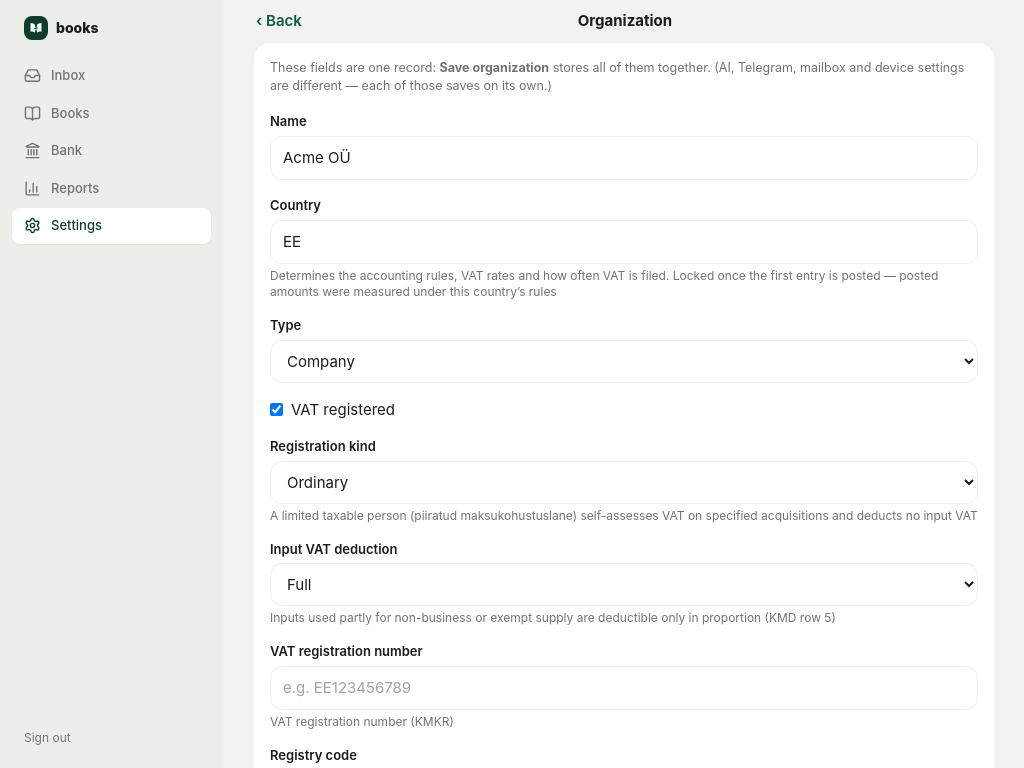
Test case: unsaved-changes guard on the production routes (#250) › explicit sign-out asks while a form is dirty; Discard signs out to the token gate
The width and height of the screenshot is (1024, 768).
Replace the text in the field labelled "Name" with "Unsaved OÜ" at (624, 158), box [270,136,978,180]
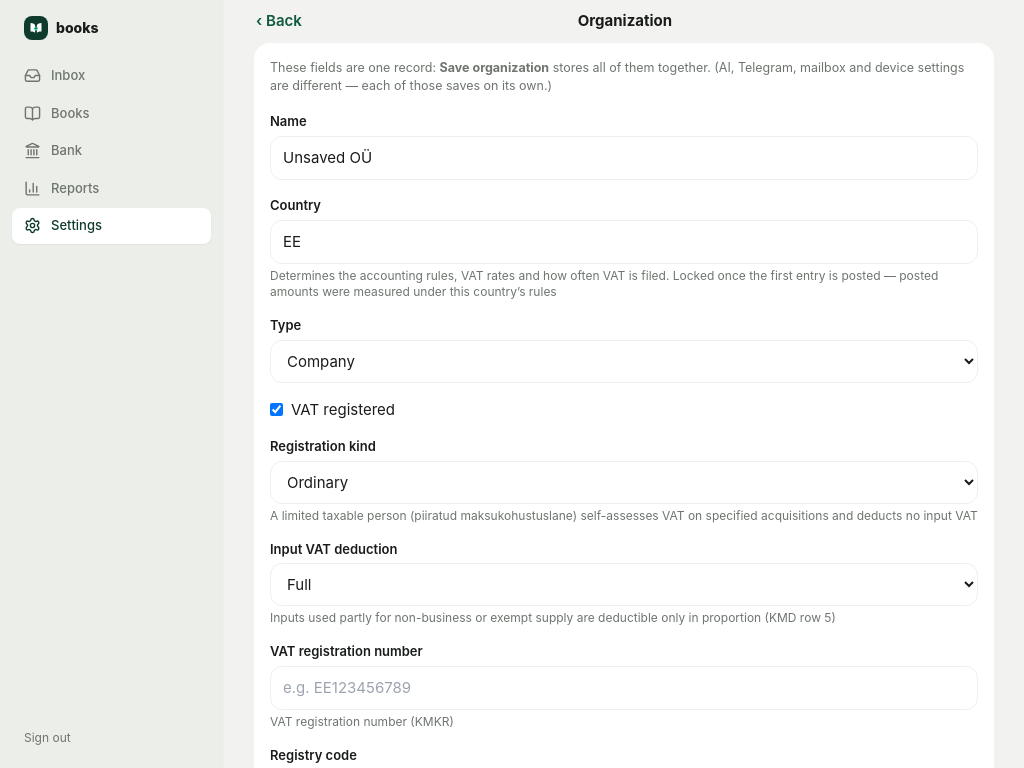
Click the button "Sign out" at (112, 738), box [12,719,211,756]
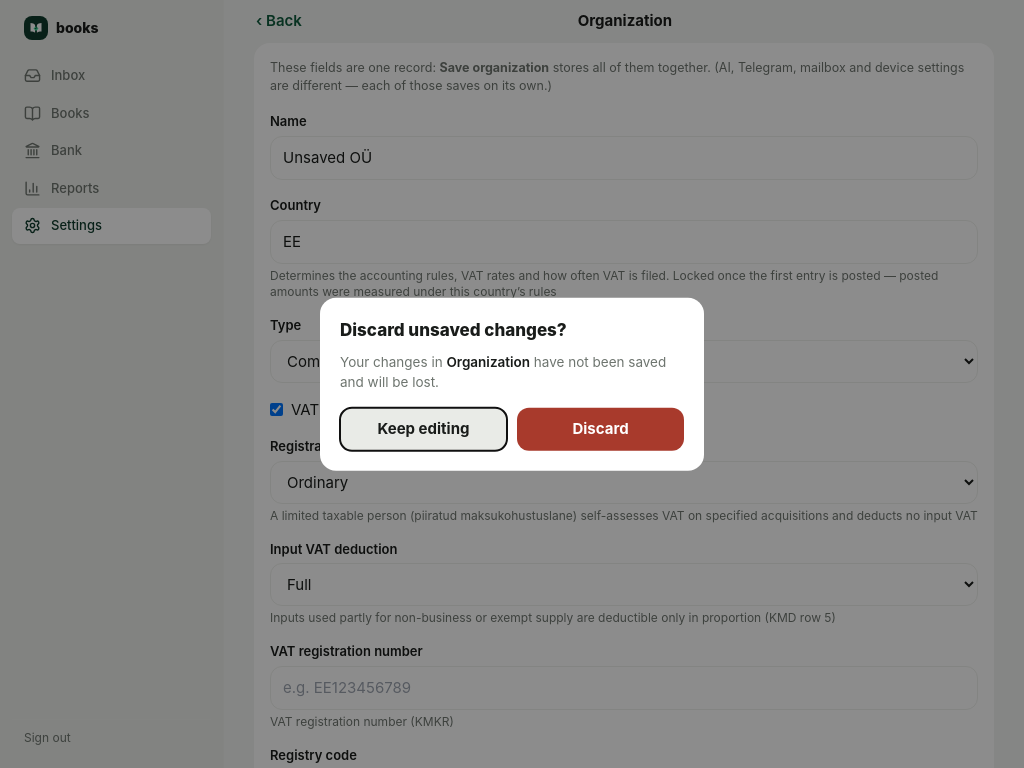
Click the button "Keep editing" at (424, 429), box [340,408,507,450]
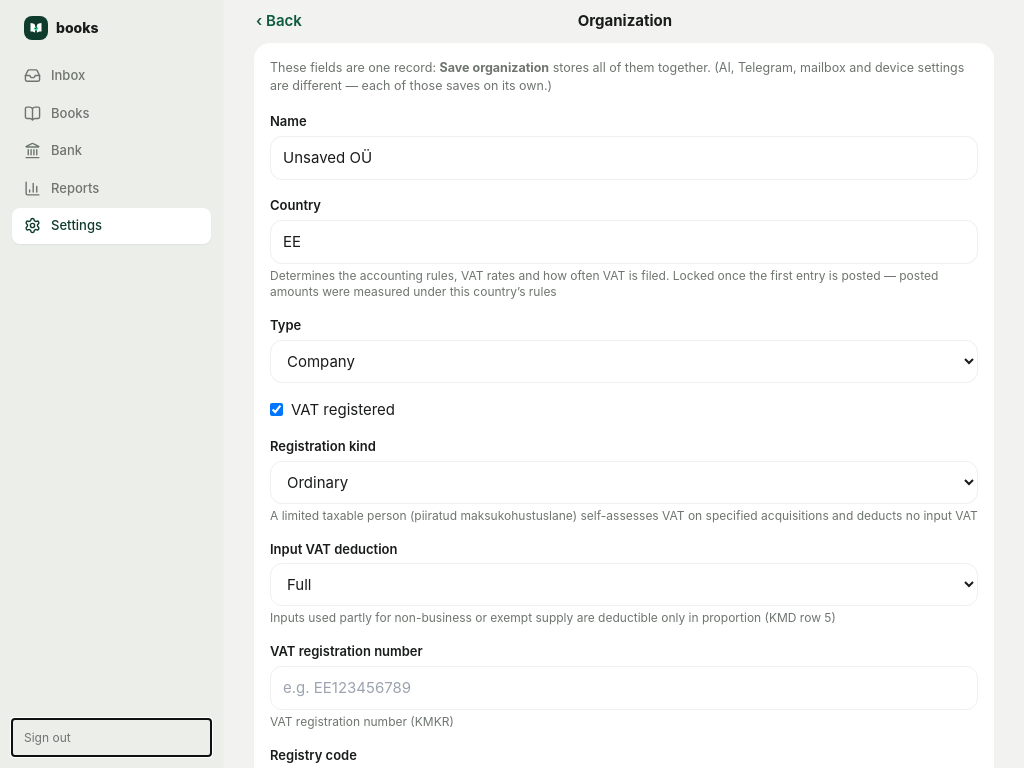
Expected: the dialog is gone
Click the button "Sign out" at (112, 738), box [12,719,211,756]
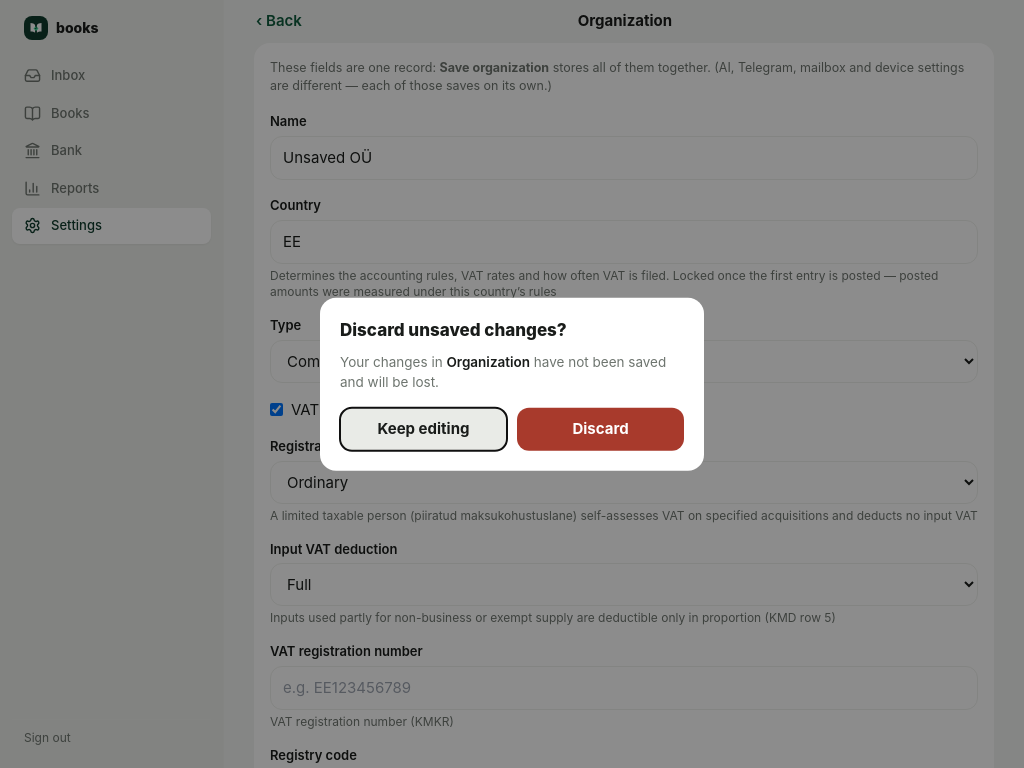
Click the button "Discard" at (600, 429), box [517,408,684,450]
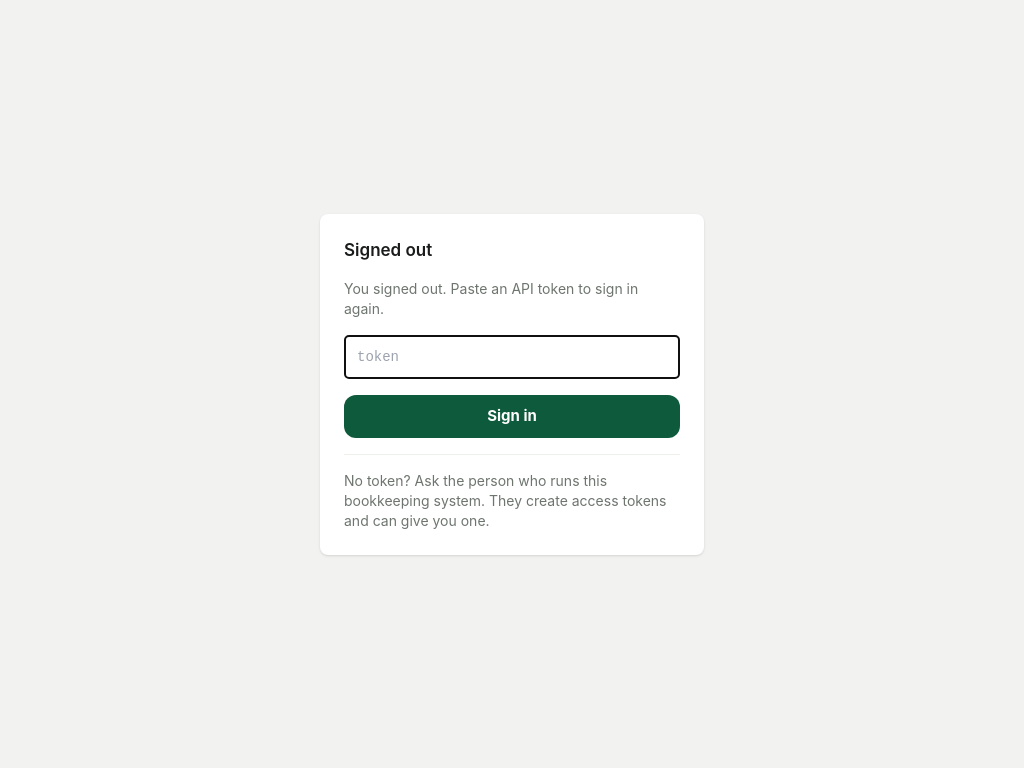
Expected: the password field named "API token" is shown, [344,335,680,379]
Expected: the text labelled "Name" is gone
